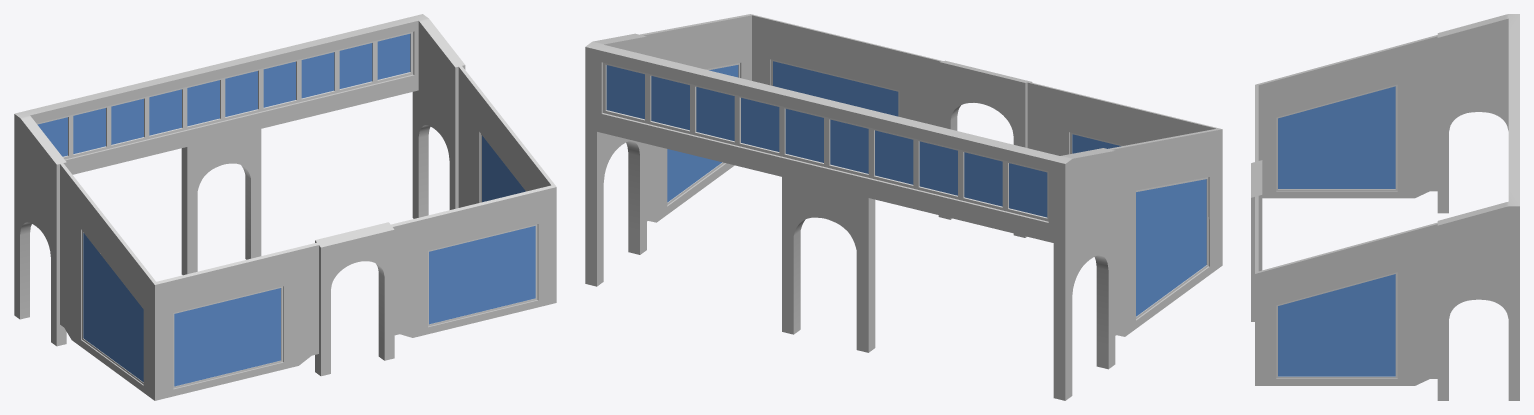
Rendered from HouseWalls.fbx.
3 views of the same model, side by side, from view 1: azimuth 30°, elevation 25°; view 2: azimuth 150°, elevation 25°; view 3: azimuth 270°, elevation 25° (orthographic). The views are drawn at different scales.
Visible parts, largest first — view 1: House; view 2: House; view 3: House.
Part boxes in pixels (left/top/right/bottom): House: left=14, top=14, right=556, bottom=400; House: left=585, top=14, right=1222, bottom=400; House: left=1251, top=14, right=1519, bottom=400.
Size of the model in its own units: 122000 by 72000 by 57521.
